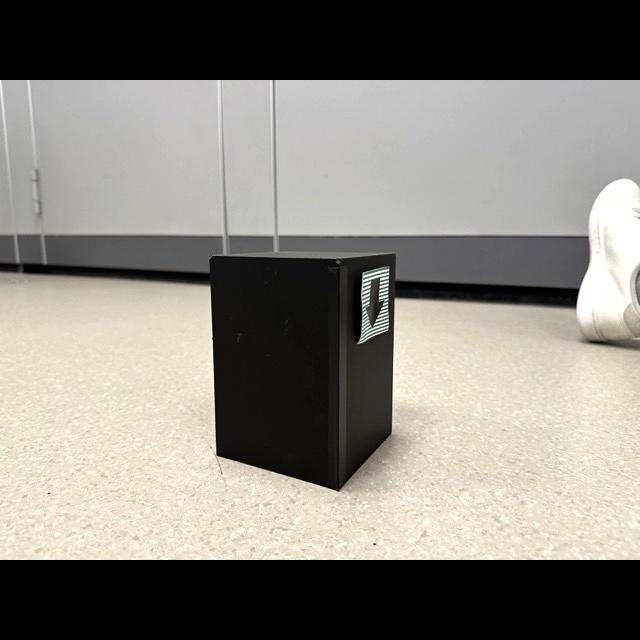DOWN: (365, 278, 384, 327)
